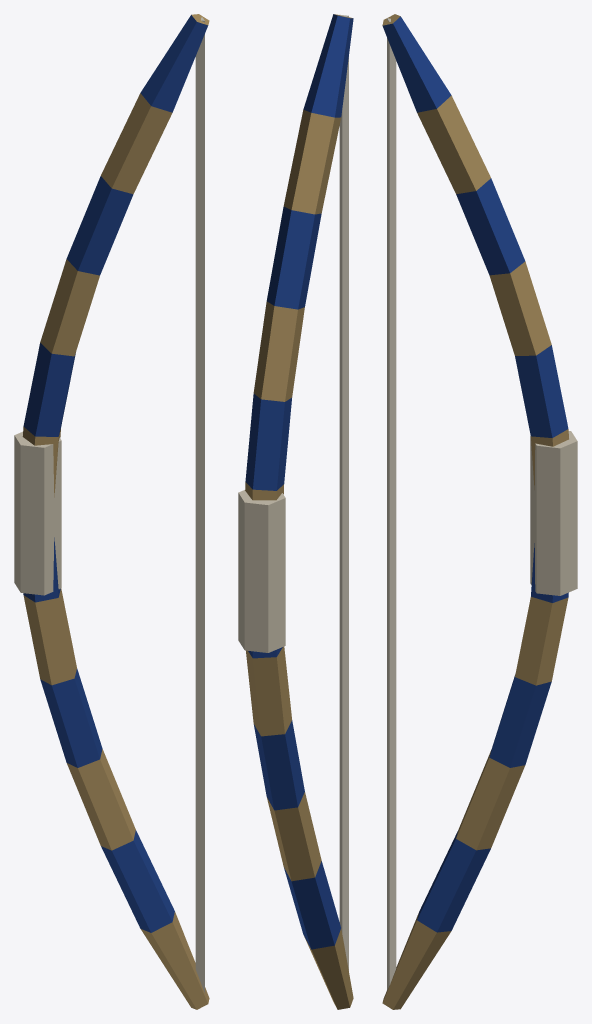
The model's file is weapon_bow.glb.
The picture shows the model from 3 angles, left to right: view 1: azimuth 90°, elevation 25°; view 2: azimuth 150°, elevation 25°; view 3: azimuth 270°, elevation 25°; orthographic projection.
Visible parts, largest first — view 1: gnoll_weapon_bow; view 2: gnoll_weapon_bow; view 3: gnoll_weapon_bow.
Part boxes in pixels (left/top/right/bottom): gnoll_weapon_bow: left=14, top=14, right=209, bottom=1009; gnoll_weapon_bow: left=238, top=14, right=353, bottom=1009; gnoll_weapon_bow: left=382, top=14, right=577, bottom=1009.
Bounding box in the file's own units: 0.0417 × 0.9681 × 0.1724.
